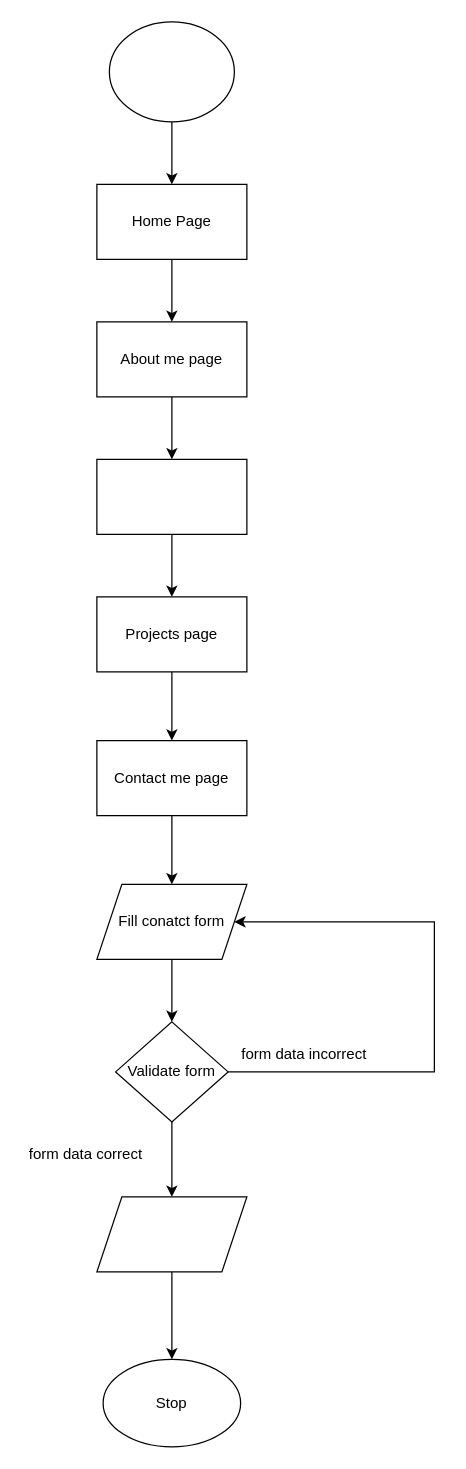
Image size: 466x1469. Some labels were removed from this diagram. Here are the shapes that lost their labels. From the top down, the centre of each, then its label:
At (x=171, y=71): "Start".
At (x=171, y=496): "Skills page".
At (x=171, y=1234): "Submit".
